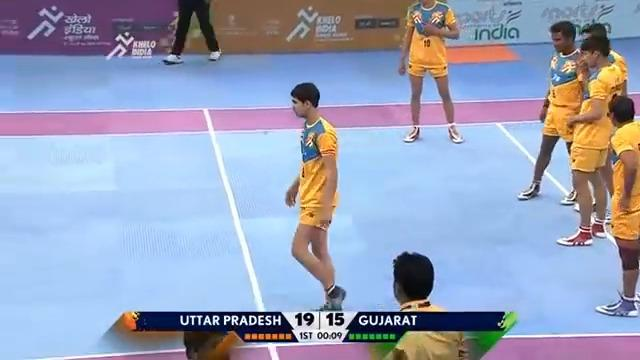Player: (370, 250, 517, 359), (556, 32, 627, 246), (517, 20, 591, 206), (594, 93, 639, 317), (397, 0, 465, 143)
Raider: (283, 81, 346, 311)
referee: (161, 0, 222, 64)
